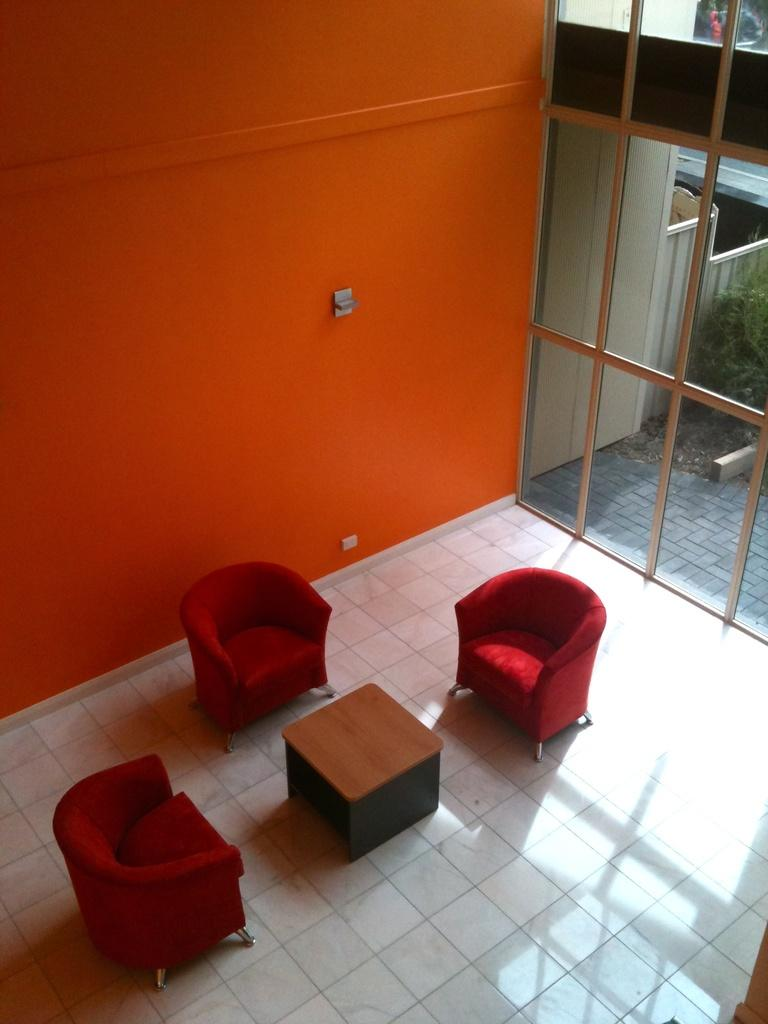Chair: (46, 746, 258, 991), (164, 547, 360, 747), (452, 563, 611, 771)
